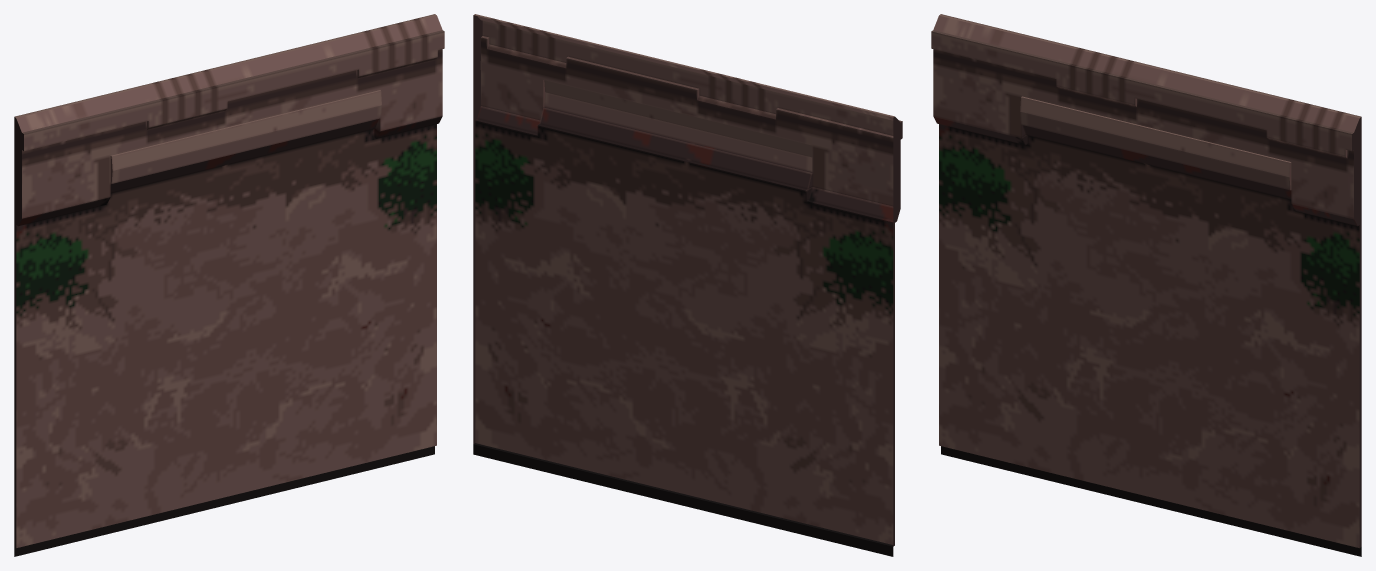
File: grove2_3.fbx
3 renders of one model, left to right at view 1: azimuth 30°, elevation 25°; view 2: azimuth 150°, elevation 25°; view 3: azimuth 330°, elevation 25°, orthographic.
Visible parts, largest first — view 1: grove2_3_mesh; view 2: grove2_3_mesh; view 3: grove2_3_mesh.
Part boxes in pixels (box(x1,y1,x2,y2)): grove2_3_mesh: box(14, 14, 444, 556); grove2_3_mesh: box(473, 14, 902, 556); grove2_3_mesh: box(931, 14, 1361, 556).
Bounding box in the file's own units: 256 × 256 × 10.
